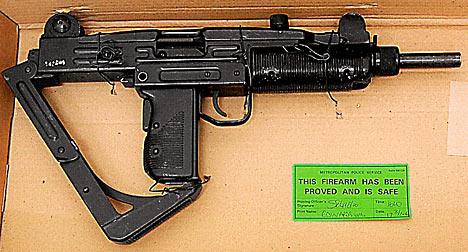rifle: (15, 12, 458, 229)
